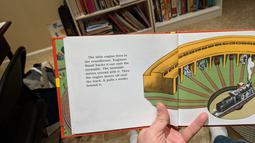text block: (80, 49, 131, 89)
